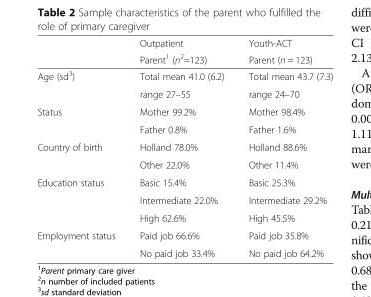table: (36, 37, 332, 258)
table column: (126, 37, 235, 258), (235, 37, 332, 258), (36, 37, 126, 258)
table column header: (36, 37, 332, 66)
table row: (36, 66, 332, 84), (36, 84, 332, 102), (36, 102, 332, 120), (36, 137, 332, 155), (36, 155, 332, 173), (36, 190, 332, 208), (36, 208, 332, 226), (36, 226, 332, 244), (36, 120, 332, 137), (36, 173, 332, 190), (36, 50, 332, 66), (36, 244, 332, 258), (36, 37, 332, 50)
table spanning cell: (36, 173, 126, 226), (36, 66, 126, 102), (36, 137, 126, 173), (126, 37, 235, 66), (36, 102, 126, 137), (36, 226, 126, 258), (235, 37, 332, 66)
